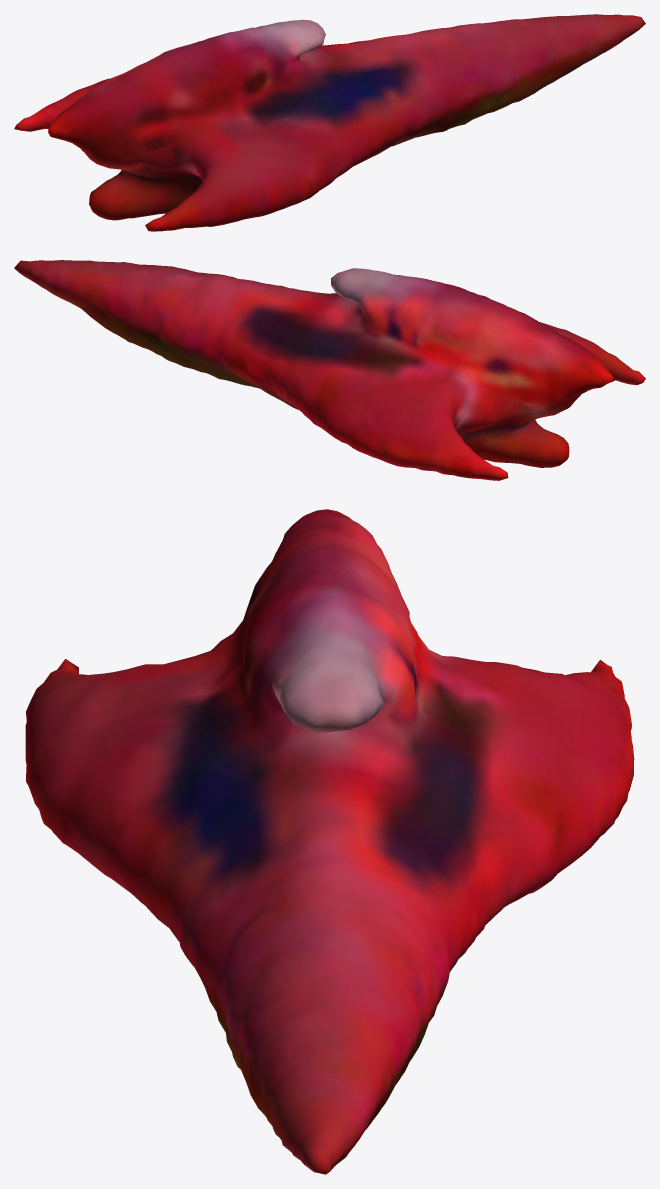
File: Red_ship_3.glb
3 views of the same model, one above another, from view 1: azimuth 30°, elevation 25°; view 2: azimuth 150°, elevation 25°; view 3: azimuth 270°, elevation 25° (orthographic). The views are drawn at different scales.
Parts seen in each view (by area): view 1: Mesh1; view 2: Mesh1; view 3: Mesh1.
Boxes of the visible parts, box(x1,y1,x2,y2) form: Mesh1: box(14, 14, 645, 231); Mesh1: box(14, 260, 645, 480); Mesh1: box(25, 509, 634, 1174).
Bounding box in the file's own units: 1.2 × 0.3103 × 0.5313.
1 material, 1 textured.
